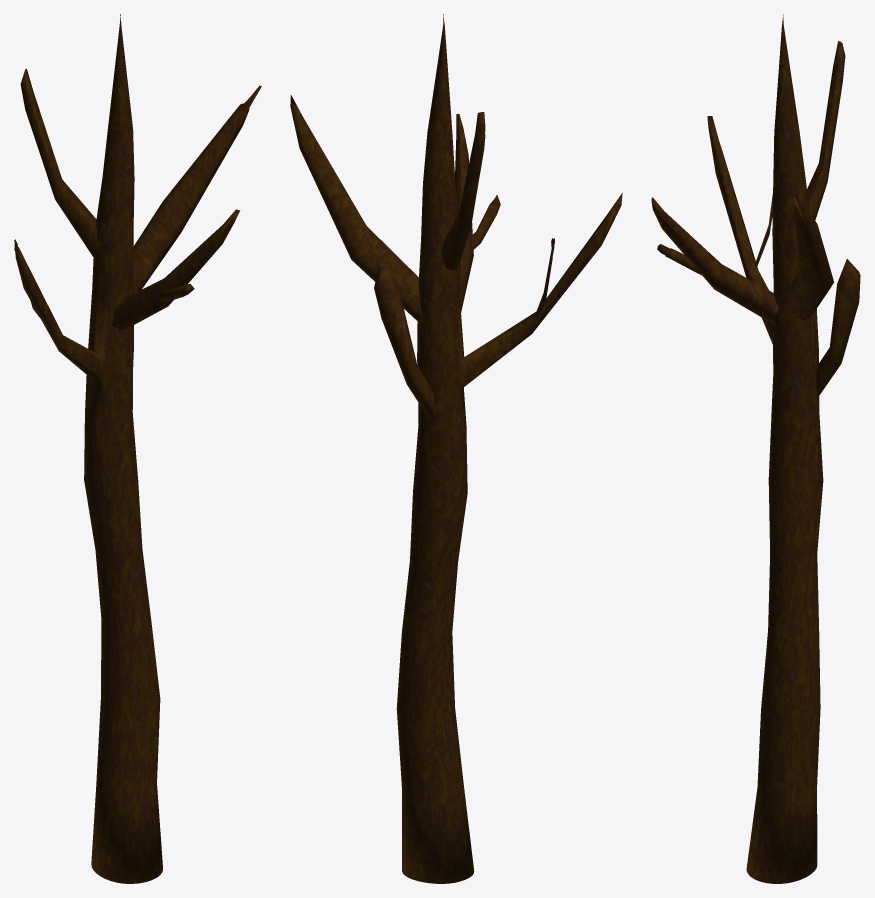
File: DeadTree2.fbx
3 views of the same model, side by side, from view 1: azimuth 30°, elevation 25°; view 2: azimuth 150°, elevation 25°; view 3: azimuth 270°, elevation 25° (orthographic).
Parts seen in each view (by area): view 1: DeadTree2; view 2: DeadTree2; view 3: DeadTree2.
Part boxes in pixels (x1,y1,x2,y2): DeadTree2: (14, 14, 261, 883); DeadTree2: (290, 14, 622, 883); DeadTree2: (651, 14, 860, 883).
Size of the model in its own units: 221 by 627 by 139.
Materials: 1 (1 with a texture image).
